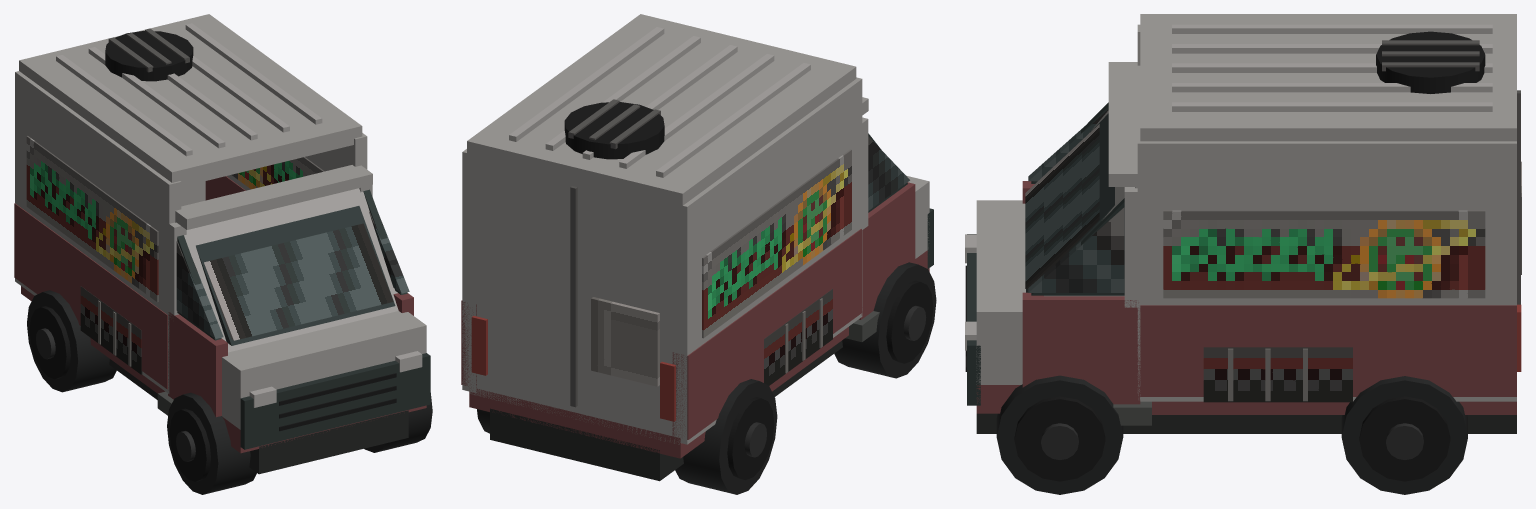
File: CMU3DVehiclePizzaVanVehicleFinalCloud.glb
The picture shows the model from 3 angles, left to right: view 1: azimuth 30°, elevation 25°; view 2: azimuth 150°, elevation 25°; view 3: azimuth 270°, elevation 25°; orthographic projection. The views are drawn at different scales.
Parts seen in each view (by area): view 1: van box roof, original front windshield, van cargo shell side -1, van low front hood, original van side branding -1, van lower side color band -1, front radiator surround, raised van roof rib (×5), sloping van windshield backing, van cab roof, van connected chassis, recessed front van windshield (+21 smaller); view 2: van rear shell wall, van box roof, van cargo shell side -1, original van side branding -1, van lower side color band -1, raised van roof rib (×5), van connected chassis, van cargo floor, original rear door marking, van cab lower door -1, tire 1 -1, tire 0 -1 (+15 smaller); view 3: van cargo shell side 1, van box roof, original van side branding 1, van lower side color band 1, raised van roof rib (×5), van cab lower door 1, van low front hood, original lower ventilation panel 1, original front windshield, tire 0 1, tire 1 1, van connected chassis (+17 smaller).
Part boxes in pixels (x1,y1,x2,y2): van box roof: (19, 14, 362, 186); original front windshield: (204, 223, 393, 340); van cargo shell side -1: (15, 71, 181, 393); van low front hood: (222, 311, 426, 429); original van side branding -1: (26, 136, 158, 302); van lower side color band -1: (14, 203, 167, 389); front radiator surround: (240, 353, 430, 449); raised van roof rib (×5): (56, 23, 322, 156); sloping van windshield backing: (175, 188, 398, 352); van cab roof: (175, 165, 372, 229); van connected chassis: (109, 359, 408, 474); recessed front van windshield: (196, 206, 395, 345); van rear shell wall: (470, 155, 680, 444); van box roof: (467, 14, 856, 212); van cargo shell side -1: (673, 77, 862, 444); original van side branding -1: (702, 149, 851, 338); van lower side color band -1: (672, 229, 861, 439); raised van roof rib (×5): (509, 27, 810, 177); van connected chassis: (490, 340, 842, 481); van cargo floor: (469, 327, 848, 458); original rear door marking: (591, 297, 659, 386); van cab lower door -1: (859, 182, 915, 319); tire 1 -1: (675, 379, 777, 494); tire 0 -1: (834, 262, 936, 378); van cargo shell side 1: (1137, 136, 1516, 401); van box roof: (1140, 14, 1516, 141); original van side branding 1: (1163, 210, 1485, 298); van lower side color band 1: (1140, 305, 1516, 396); raised van roof rib (×5): (1172, 24, 1492, 111); van cab lower door 1: (1022, 292, 1140, 404); van low front hood: (976, 200, 1025, 384); original lower ventilation panel 1: (1203, 347, 1352, 402); original front windshield: (1025, 124, 1099, 288); tire 0 1: (996, 375, 1123, 494); tire 1 1: (1341, 376, 1467, 494); van connected chassis: (976, 413, 1516, 433).
Bounding box in the file's own units: 1.15 × 1.45 × 1.94.
Materials: 19 (5 with a texture image).
